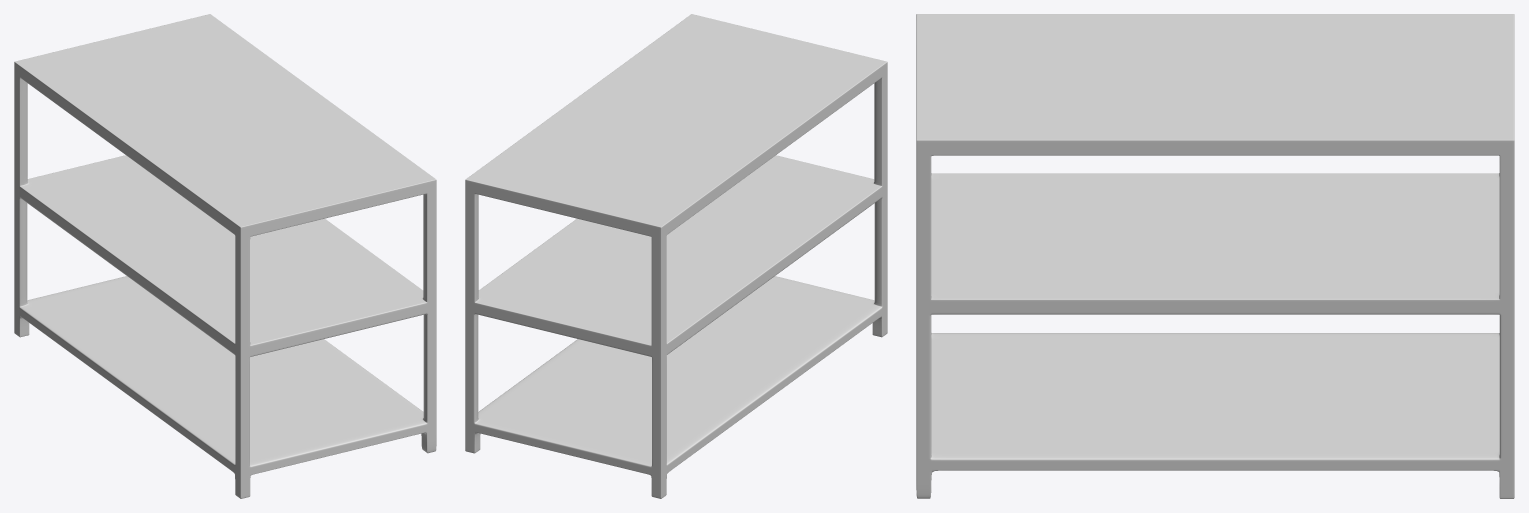
Rendered from Short_Table.fbx.
3 views of the same model, side by side, from view 1: azimuth 30°, elevation 25°; view 2: azimuth 150°, elevation 25°; view 3: azimuth 270°, elevation 25° (orthographic). The views are drawn at different scales.
Parts seen in each view (by area): view 1: Short_Table; view 2: Short_Table; view 3: Short_Table.
Part boxes in pixels (x1,y1,x2,y2): Short_Table: (14,14,436,498); Short_Table: (465,14,887,498); Short_Table: (916,14,1514,498).
Size of the model in its own units: 1 by 1.33 by 2.
Materials: 1 (1 with a texture image).
